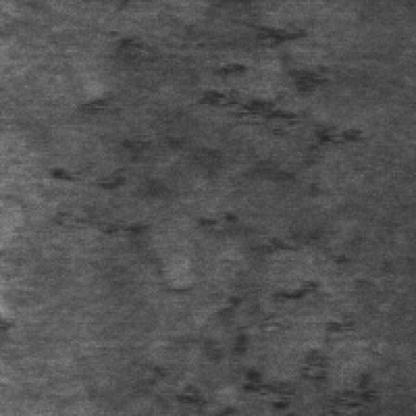rolled-in_scale: (54, 137, 343, 256), (164, 274, 381, 408), (181, 8, 370, 150)
